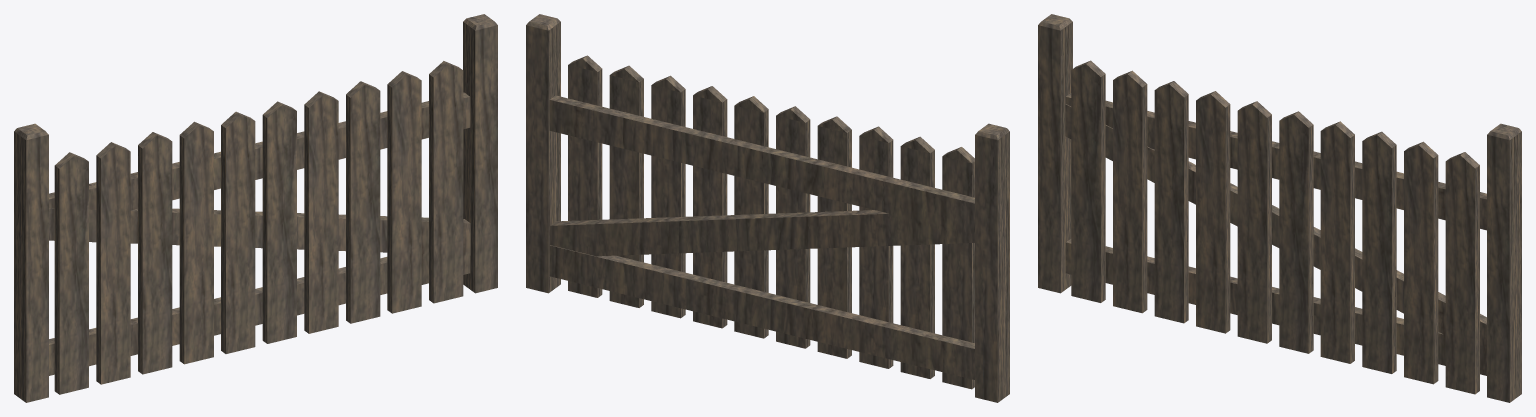
File: barriere_bois1.obj
3 renders of one model, left to right at view 1: azimuth 30°, elevation 25°; view 2: azimuth 150°, elevation 25°; view 3: azimuth 330°, elevation 25°, orthographic.
Visible parts, largest first — view 1: barriere_bois1_Cube.013; view 2: barriere_bois1_Cube.013; view 3: barriere_bois1_Cube.013.
Boxes of the visible parts, <box> form: barriere_bois1_Cube.013: <box>14,14,497,402</box>; barriere_bois1_Cube.013: <box>526,14,1009,402</box>; barriere_bois1_Cube.013: <box>1038,14,1521,402</box>.
Bounding box in the file's own units: 1.98 × 1.07 × 0.0885.
